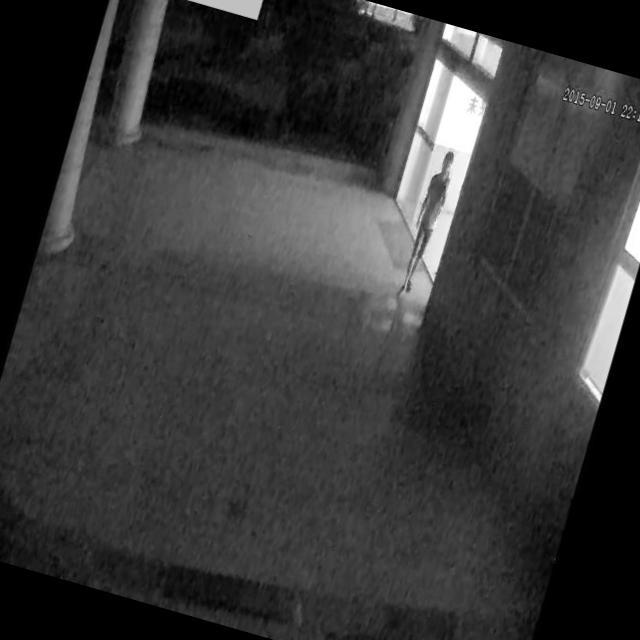person: (391, 146, 462, 308)
